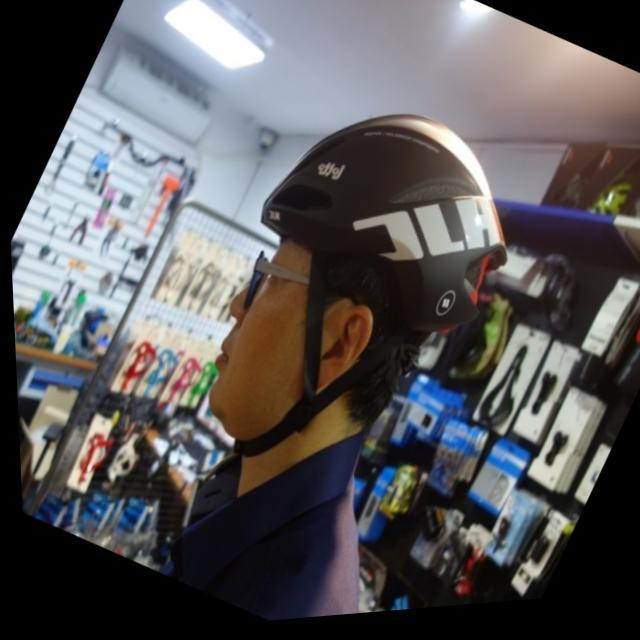Helmet: (186, 100, 500, 443)
